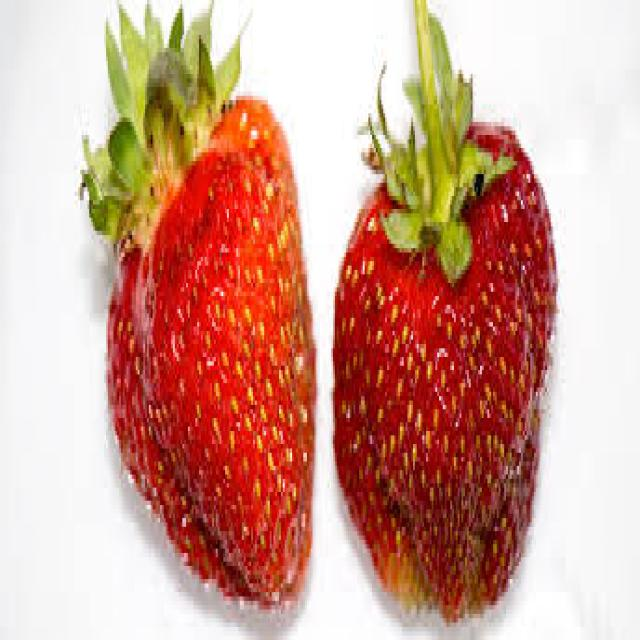Strawberries: (90, 113, 322, 593), (351, 141, 533, 605)
